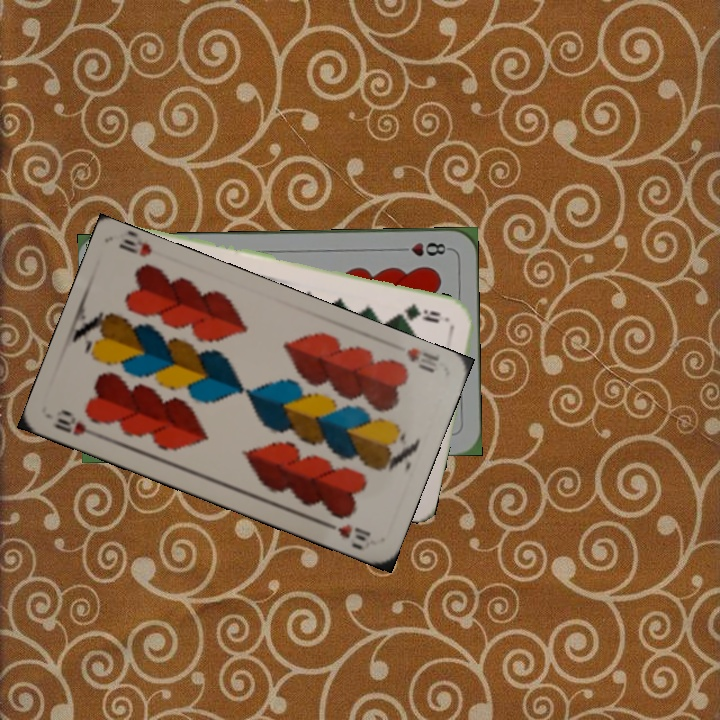G9: (393, 299, 452, 326)
H10: (50, 406, 105, 441), (402, 343, 442, 376)
H8: (393, 238, 452, 259)
